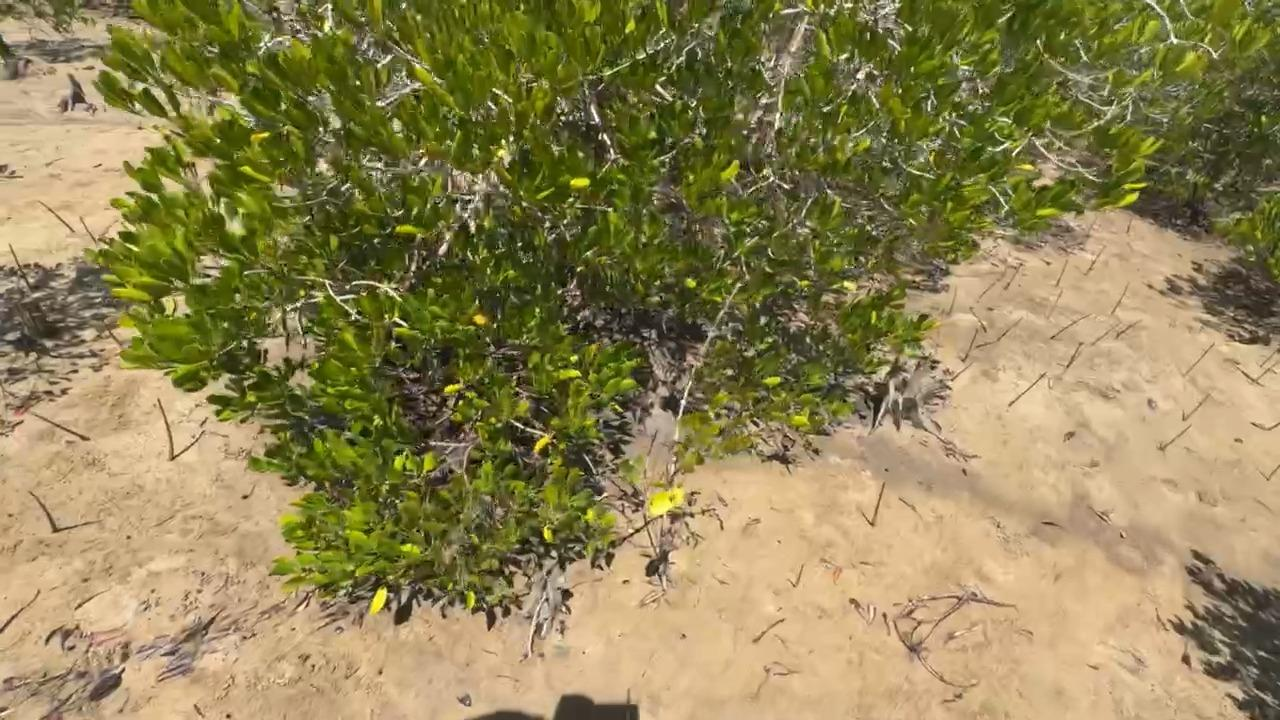Tree: (961, 307, 1024, 361), (0, 588, 41, 634), (26, 488, 59, 534), (1008, 371, 1047, 409), (37, 199, 76, 233), (1049, 312, 1094, 340), (1182, 340, 1216, 377), (7, 242, 33, 290), (156, 397, 175, 462), (973, 268, 1007, 303), (1058, 340, 1084, 377), (1159, 423, 1192, 451), (1182, 392, 1212, 421), (1090, 320, 1123, 346), (752, 617, 786, 642), (99, 314, 123, 346), (1248, 360, 1280, 384), (871, 481, 886, 528), (1085, 244, 1107, 275), (1111, 281, 1130, 316), (78, 214, 98, 244), (1114, 319, 1144, 339), (1003, 263, 1023, 290), (950, 359, 974, 381), (1046, 289, 1063, 318), (1055, 257, 1070, 287), (1258, 345, 1279, 366), (946, 283, 958, 316), (795, 563, 805, 587), (1267, 463, 1280, 481), (1261, 421, 1279, 430), (1126, 216, 1132, 234)
